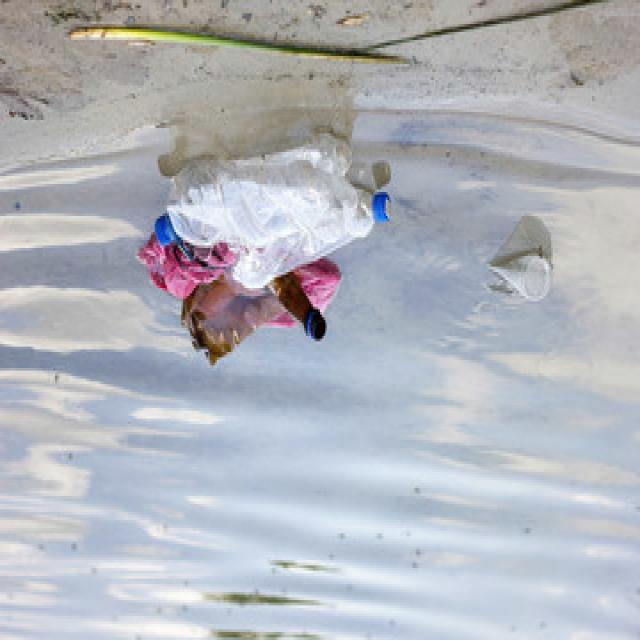Plastic: (150, 131, 362, 258), (210, 185, 397, 289), (270, 265, 328, 346), (483, 244, 555, 309)
Trash: (183, 274, 334, 364), (140, 231, 234, 304)
